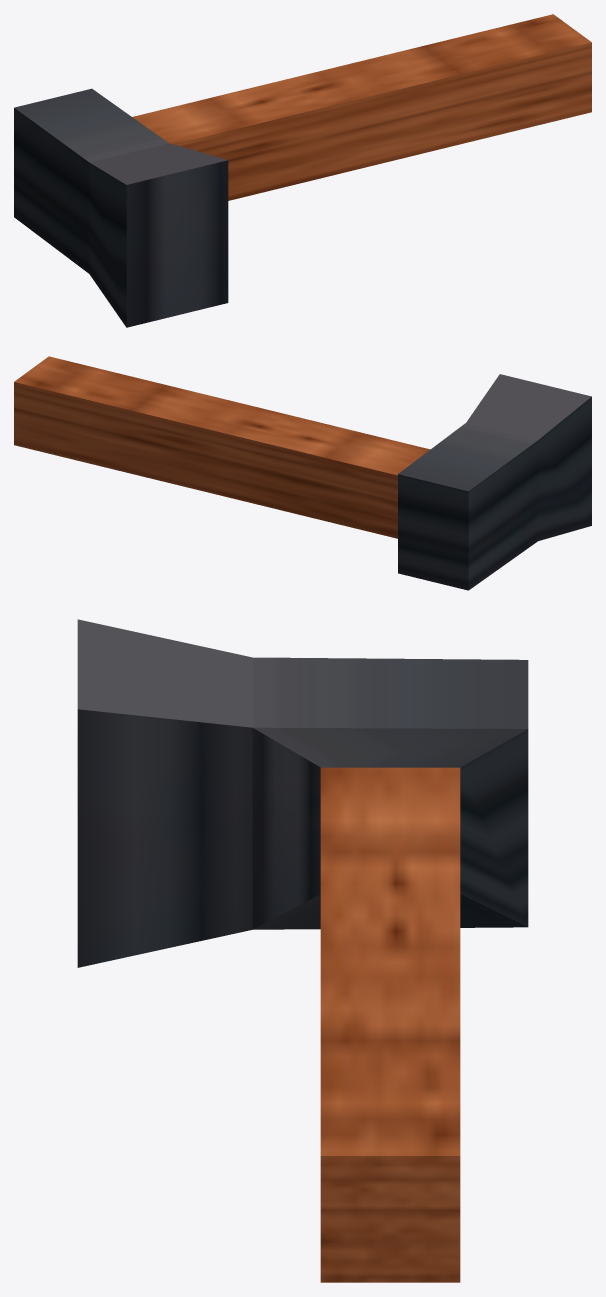
Rendered from Hammer.fbx.
The picture shows the model from 3 angles, top to bottom: view 1: azimuth 30°, elevation 25°; view 2: azimuth 150°, elevation 25°; view 3: azimuth 270°, elevation 25°; orthographic projection. The views are drawn at different scales.
Parts seen in each view (by area): view 1: Hammer; view 2: Hammer; view 3: Hammer.
Part boxes in pixels (x1,y1,x2,y2): Hammer: (14, 14, 591, 327); Hammer: (14, 356, 591, 590); Hammer: (77, 619, 528, 1282).
Size of the model in its own units: 94.74 by 24.28 by 38.33.
